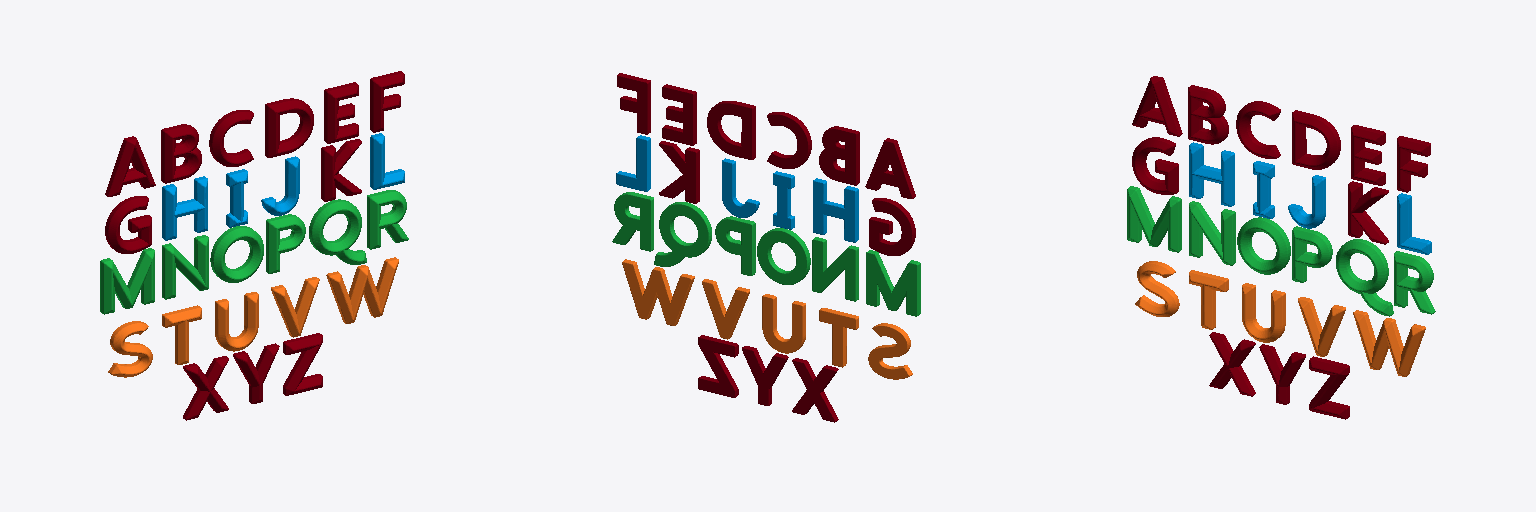
The model's file is letters.obj.
3 views of the same model, side by side, from view 1: azimuth 30°, elevation 25°; view 2: azimuth 150°, elevation 25°; view 3: azimuth 330°, elevation 25° (orthographic).
Visible parts, largest first — view 1: Object.26, Object.13, Object.17, Object.2, Object.4, Object.14, Object.7, Object.8, Object.15, Object.18, Object.5, Object.25 (+14 smaller); view 2: Object.26, Object.13, Object.17, Object.2, Object.4, Object.14, Object.7, Object.8, Object.15, Object.18, Object.25, Object.5 (+14 smaller); view 3: Object.26, Object.13, Object.17, Object.14, Object.2, Object.4, Object.7, Object.15, Object.18, Object.8, Object.5, Object.21 (+14 smaller).
Part boxes in pixels (left/top/right/bottom): Object.26: left=326, top=257, right=398, bottom=323; Object.13: left=100, top=248, right=154, bottom=314; Object.17: left=309, top=199, right=366, bottom=264; Object.2: left=161, top=124, right=201, bottom=183; Object.4: left=265, top=98, right=313, bottom=157; Object.14: left=162, top=235, right=208, bottom=299; Object.7: left=105, top=196, right=151, bottom=253; Object.8: left=162, top=176, right=207, bottom=240; Object.15: left=210, top=226, right=263, bottom=282; Object.18: left=367, top=190, right=408, bottom=249; Object.5: left=324, top=82, right=358, bottom=143; Object.25: left=283, top=333, right=322, bottom=395; Object.26: left=622, top=259, right=694, bottom=325; Object.13: left=866, top=250, right=920, bottom=316; Object.17: left=654, top=202, right=711, bottom=266; Object.2: left=819, top=126, right=859, bottom=185; Object.4: left=707, top=101, right=755, bottom=159; Object.14: left=812, top=237, right=858, bottom=301; Object.7: left=869, top=198, right=915, bottom=255; Object.8: left=813, top=178, right=858, bottom=242; Object.15: left=757, top=228, right=810, bottom=284; Object.18: left=612, top=192, right=653, bottom=251; Object.25: left=698, top=335, right=738, bottom=397; Object.5: left=662, top=84, right=696, bottom=145; Object.26: left=1353, top=310, right=1425, bottom=376; Object.13: left=1127, top=186, right=1181, bottom=252; Object.17: left=1336, top=239, right=1393, bottom=316; Object.14: left=1189, top=201, right=1235, bottom=265; Object.2: left=1188, top=85, right=1228, bottom=144; Object.4: left=1292, top=110, right=1340, bottom=169; Object.7: left=1132, top=137, right=1178, bottom=194; Object.15: left=1237, top=217, right=1290, bottom=274; Object.18: left=1394, top=251, right=1435, bottom=314; Object.8: left=1189, top=142, right=1234, bottom=206; Object.5: left=1351, top=125, right=1385, bottom=185; Object.21: left=1242, top=283, right=1285, bottom=342.
Bounding box in the file's own units: 118 × 109 × 4.24.